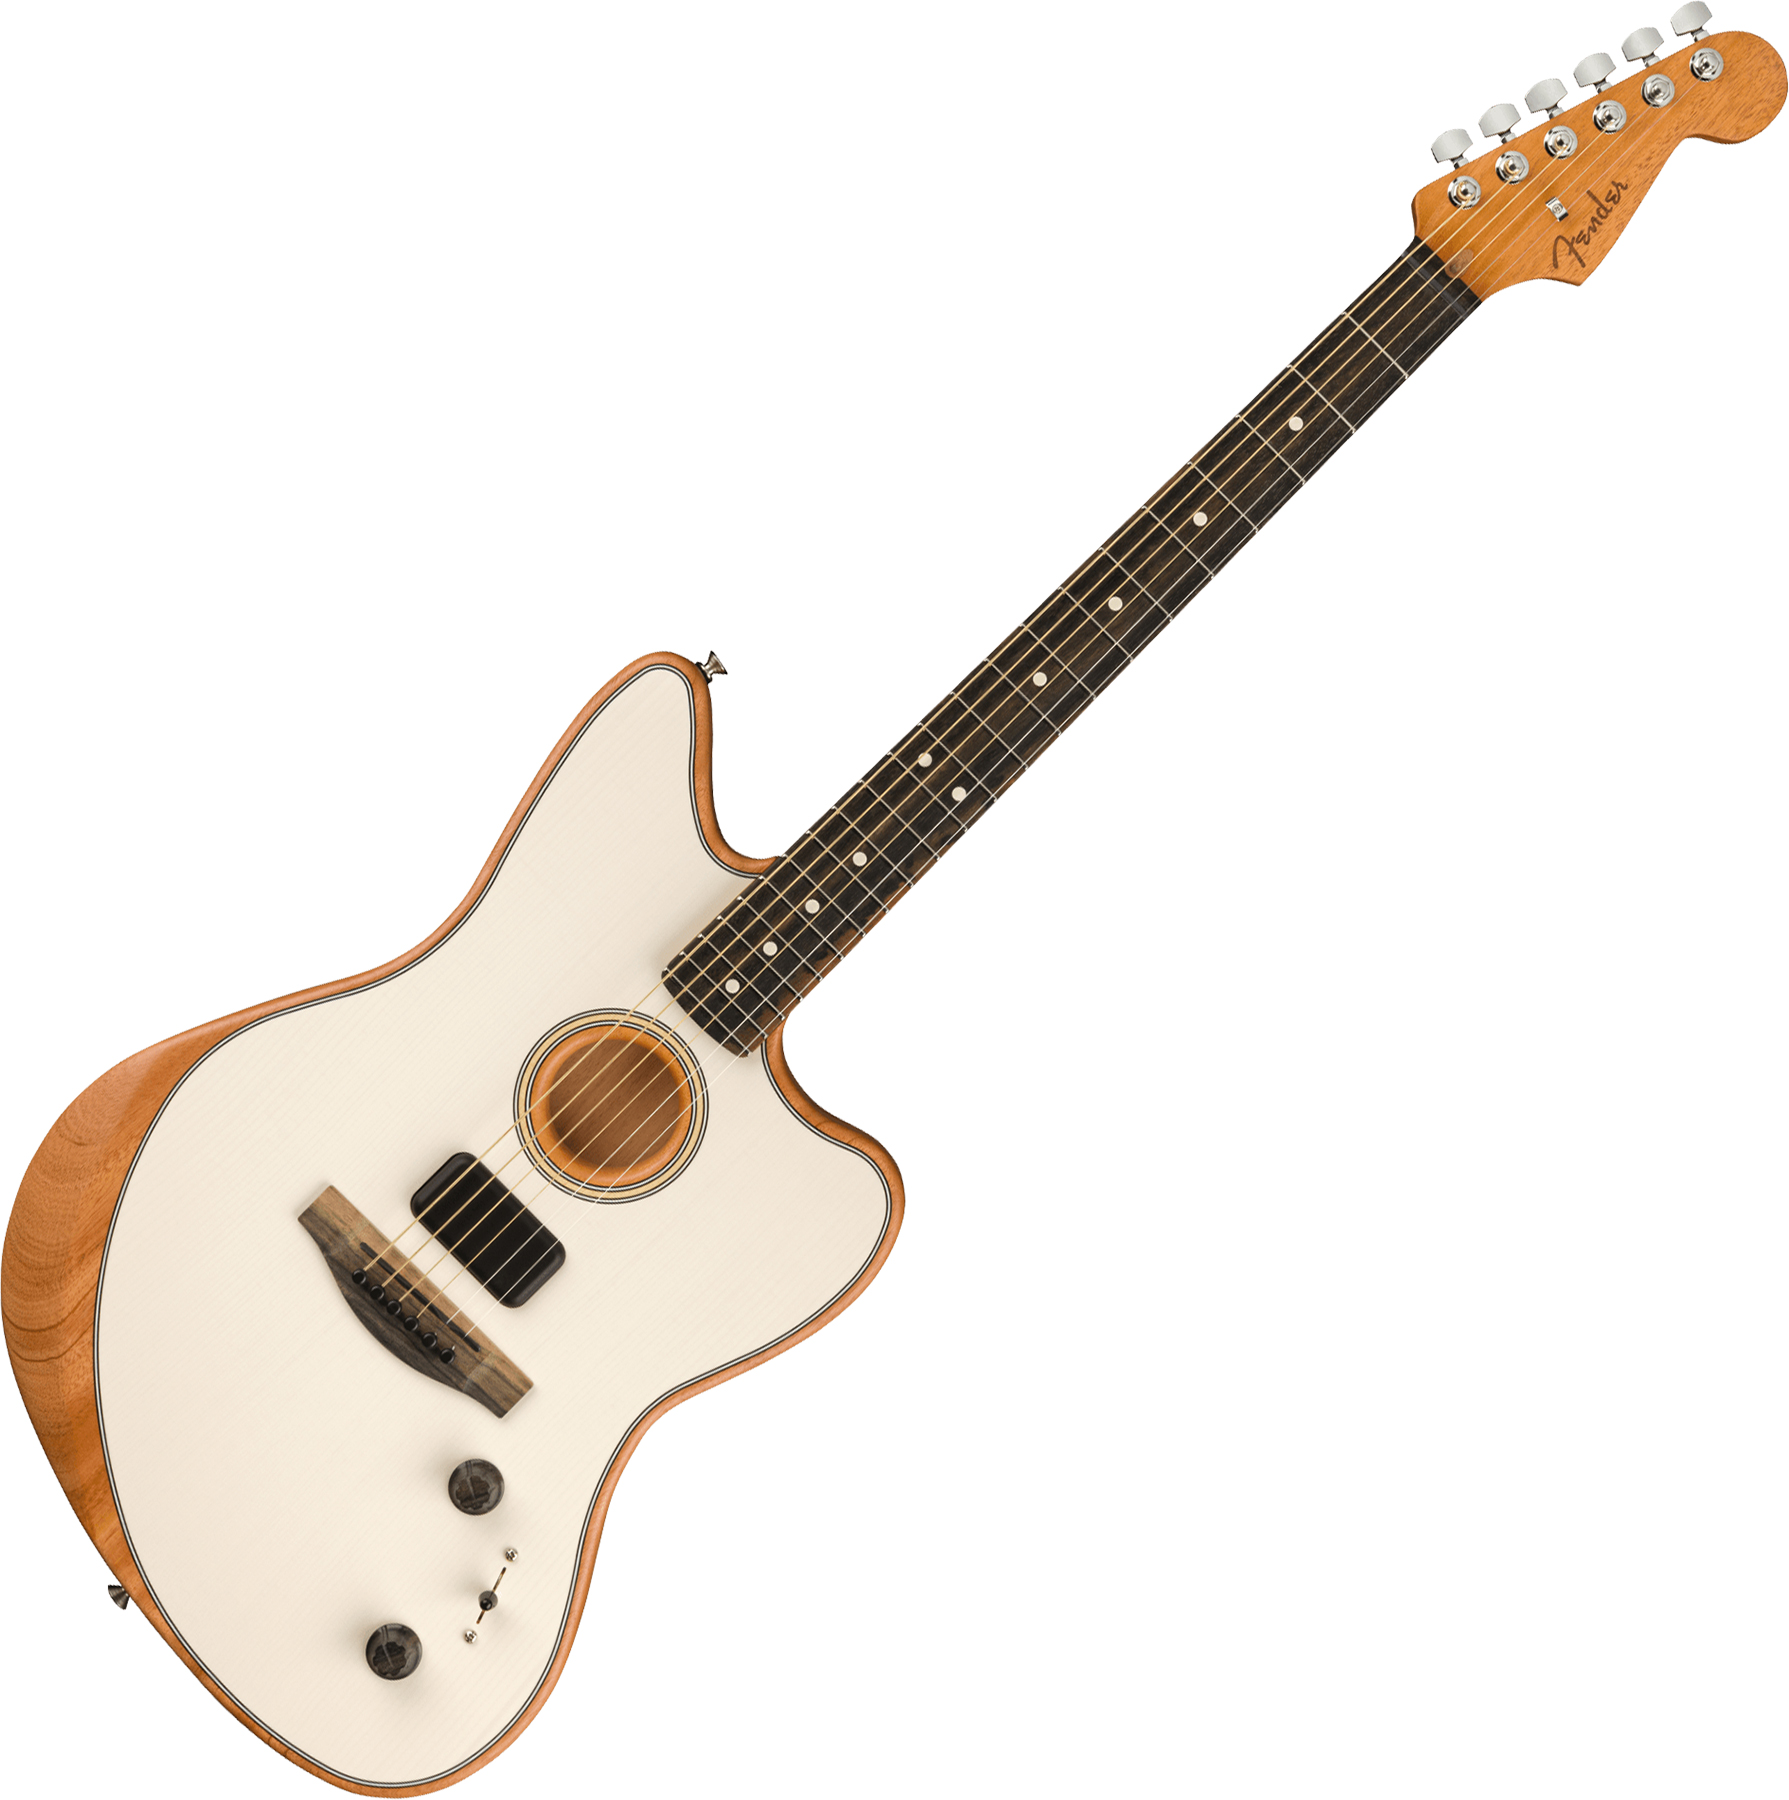guitar: (7, 2, 1787, 1792)
